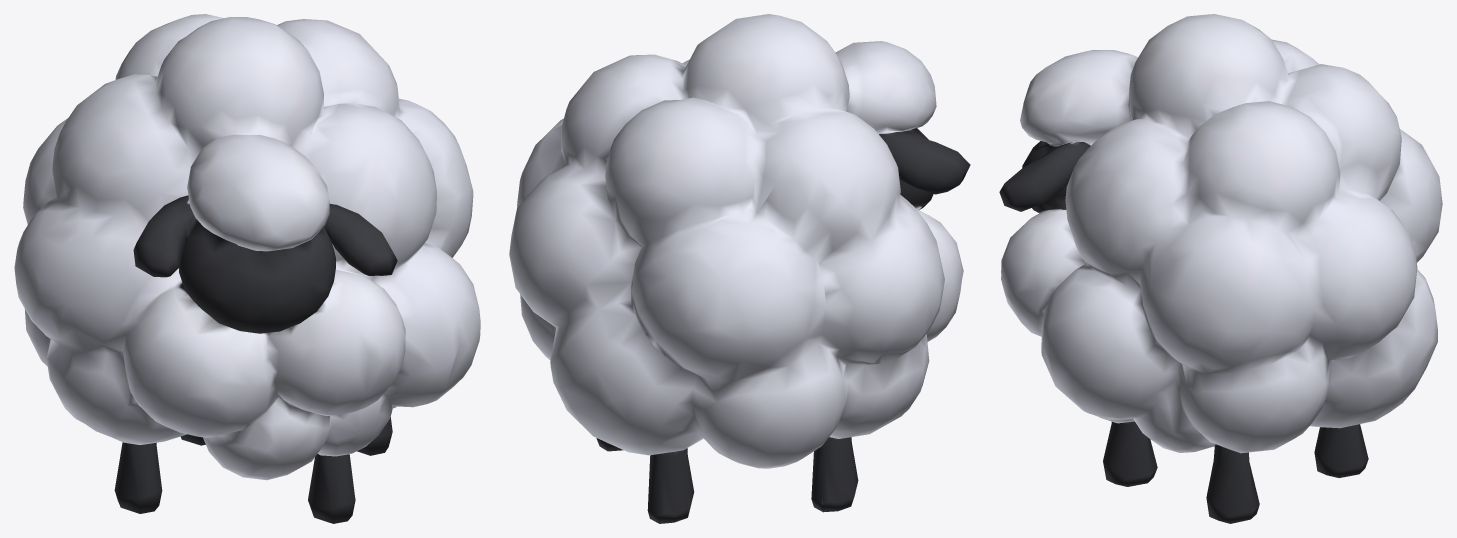
Rendered from sheep_v2.348c6569e69c.glb.
The picture shows the model from 3 angles, left to right: view 1: azimuth 30°, elevation 25°; view 2: azimuth 150°, elevation 25°; view 3: azimuth 270°, elevation 25°; orthographic projection. The views are drawn at different scales.
Visible parts, largest first — view 1: tripo_node_a0202f80-dc5a-41b6-a181-24391ec59104; view 2: tripo_node_a0202f80-dc5a-41b6-a181-24391ec59104; view 3: tripo_node_a0202f80-dc5a-41b6-a181-24391ec59104.
Part boxes in pixels (x1,y1,x2,y2): tripo_node_a0202f80-dc5a-41b6-a181-24391ec59104: [14, 14, 480, 523]; tripo_node_a0202f80-dc5a-41b6-a181-24391ec59104: [509, 14, 970, 523]; tripo_node_a0202f80-dc5a-41b6-a181-24391ec59104: [999, 14, 1442, 523].
Size of the model in its own units: 0.7173 by 0.75 by 0.6946.
1 material, 1 textured.
